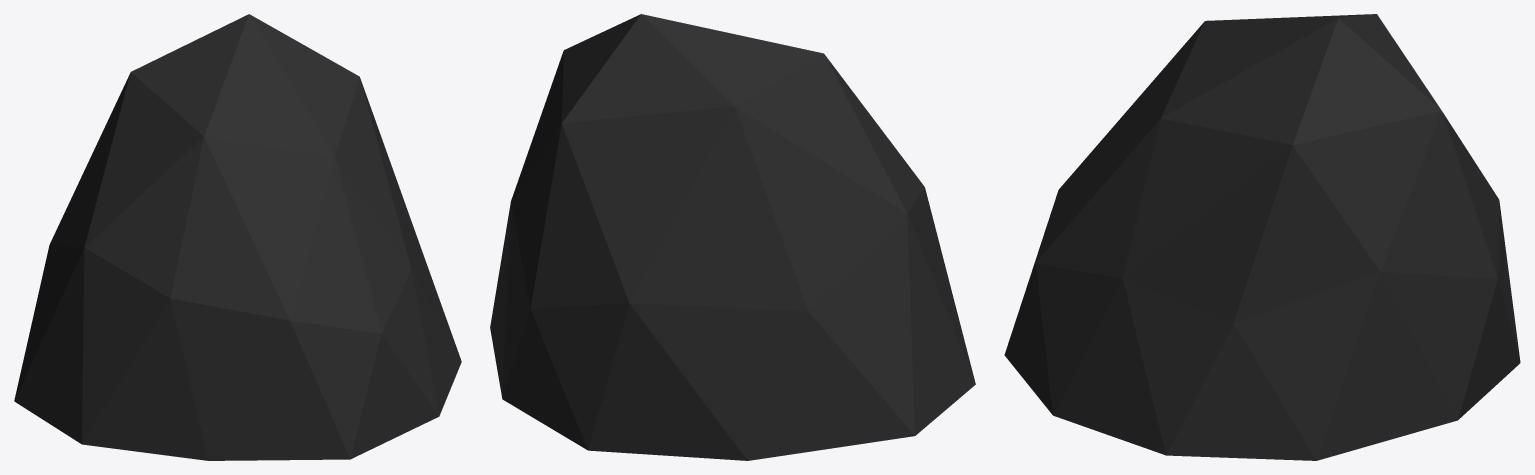
Rendered from MountainStone(3).fbx.
3 views of the same model, side by side, from view 1: azimuth 30°, elevation 25°; view 2: azimuth 150°, elevation 25°; view 3: azimuth 270°, elevation 25° (orthographic). The views are drawn at different scales.
Visible parts, largest first — view 1: MountainStone(3); view 2: MountainStone(3); view 3: MountainStone(3).
Boxes of the visible parts, bbox=[...] form: MountainStone(3): bbox=[14, 14, 461, 460]; MountainStone(3): bbox=[490, 14, 975, 460]; MountainStone(3): bbox=[1004, 14, 1520, 460].
Bounding box in the file's own units: 2.39 × 1.92 × 2.47.
